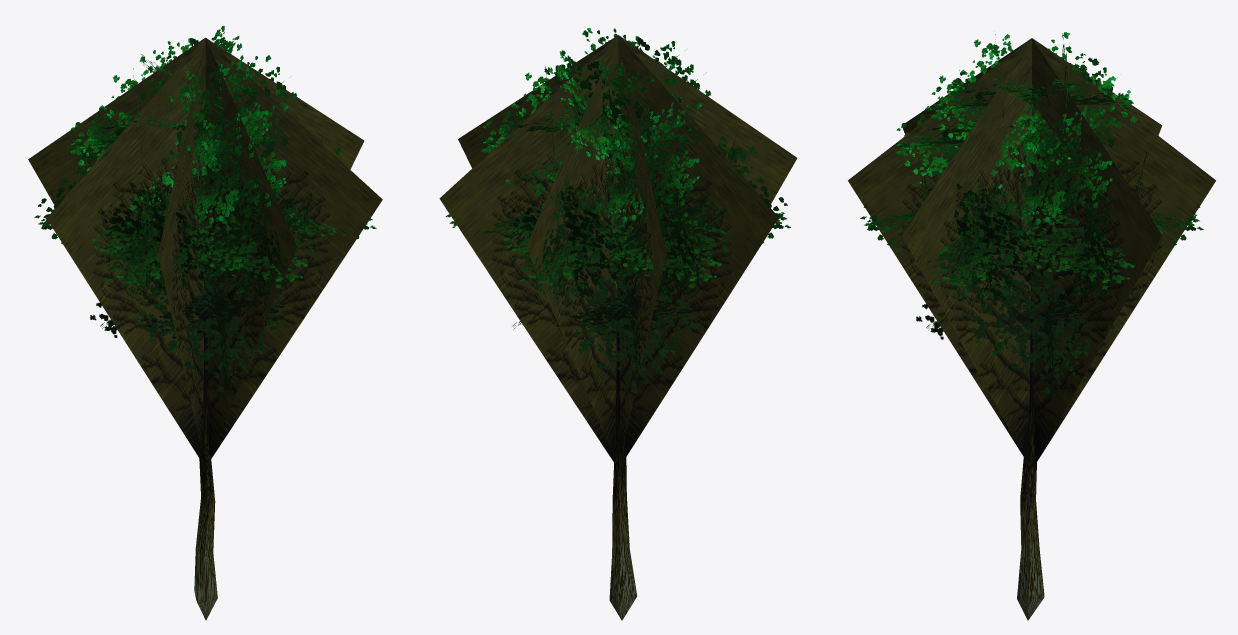
Rendered from els_4.fbx.
3 renders of one model, left to right at view 1: azimuth 30°, elevation 25°; view 2: azimuth 150°, elevation 25°; view 3: azimuth 270°, elevation 25°, orthographic.
Visible parts, largest first — view 1: els_4; view 2: els_4; view 3: els_4.
Boxes of the visible parts, x1,y1,x2,y2 form: els_4: (28,26,382,620); els_4: (439,28,797,620); els_4: (848,32,1215,620).
Size of the model in its own units: 1223 by 2137 by 1274.
